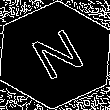N_SE: (22, 23, 88, 87)
